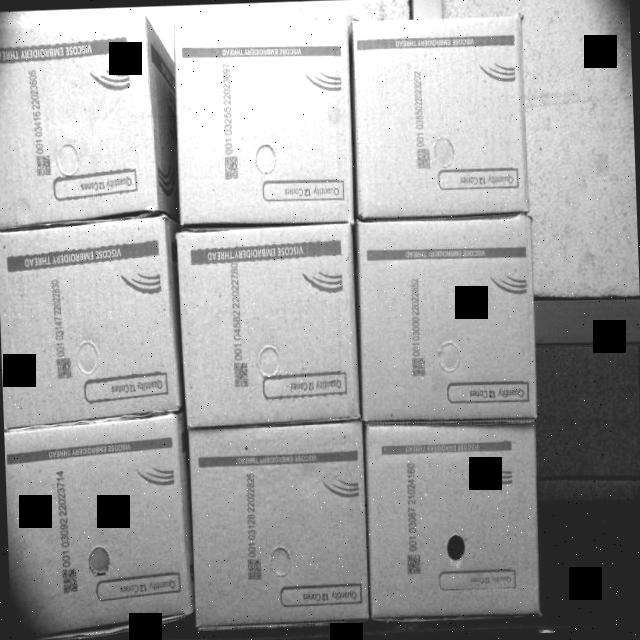box: (4, 424, 192, 639), (0, 216, 183, 421), (172, 16, 352, 221), (360, 218, 536, 422), (176, 227, 359, 422), (190, 424, 370, 622), (367, 424, 543, 620), (0, 15, 166, 220), (356, 17, 528, 211)
